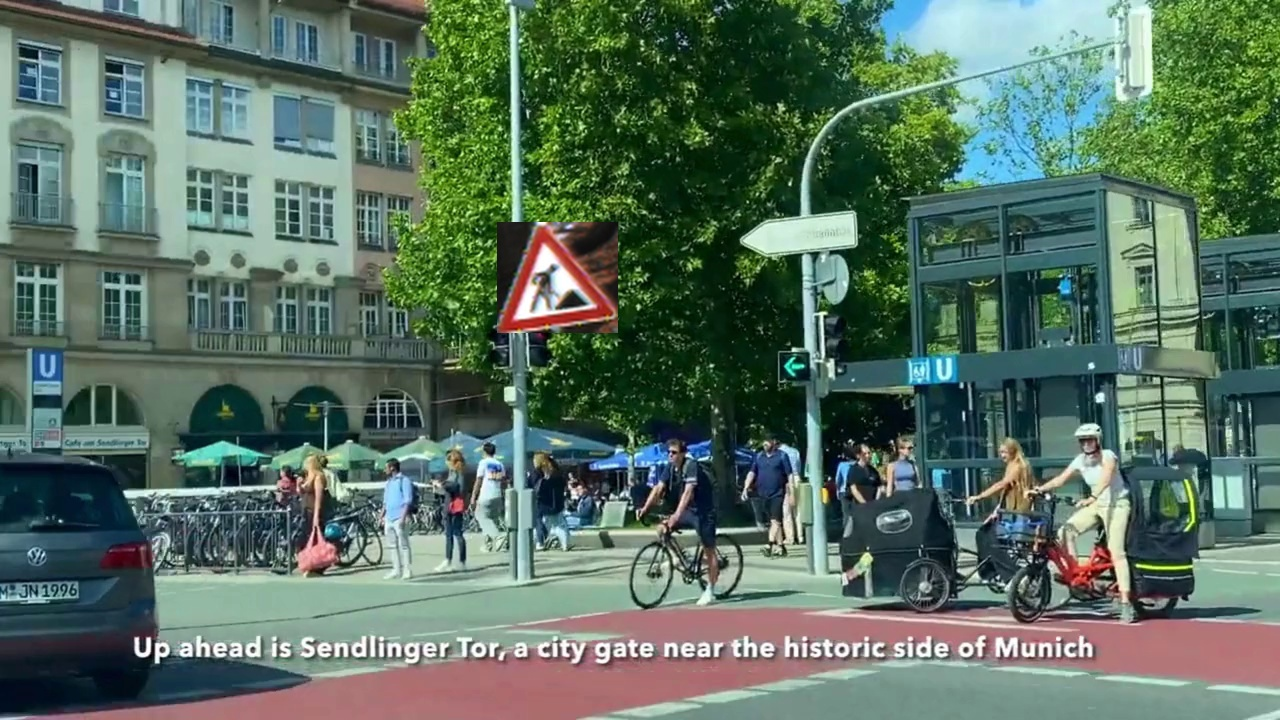Road work: (497, 222, 618, 333)
